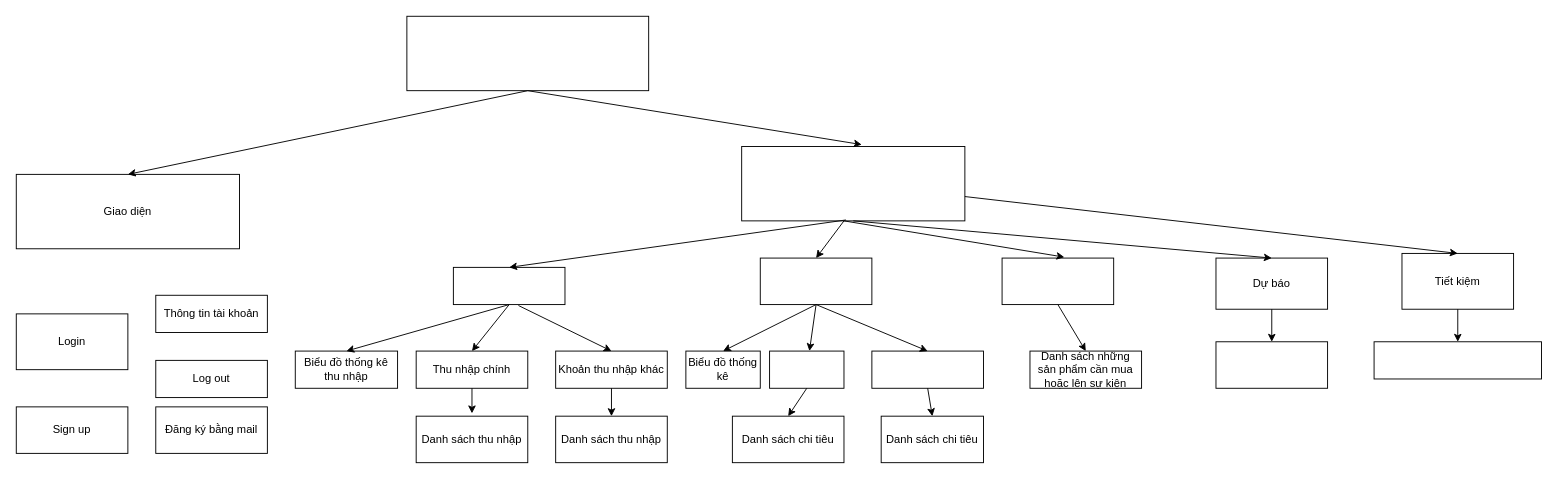
Image size: 1558x479. Some labels were removed from this diagram. The centre of each missing label's shape, as x and y in pixels:
Chi phí cố định: the point at 806,369
Chi phí phát sinh: the point at 927,369
Chi tiêu: the point at 815,281
chi tiêu vượt quá thu nhập: the point at 1271,364
Dự định: the point at 1057,281
Function: the point at 853,183
Quản lý chi tiêu: the point at 527,53
Thu nhập: the point at 508,285
Trích từ số dư: the point at 1457,360
